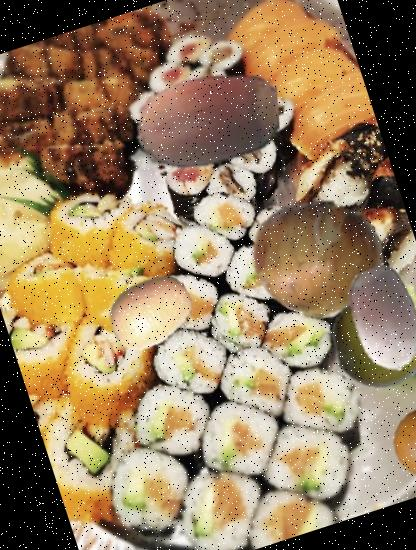Hazelnut: (112, 29, 300, 217), (319, 253, 416, 385)
Kumquats: (98, 258, 204, 366)
Maracuja: (314, 275, 416, 402)
Onion: (232, 174, 403, 345)
Orange: (384, 396, 416, 489)
